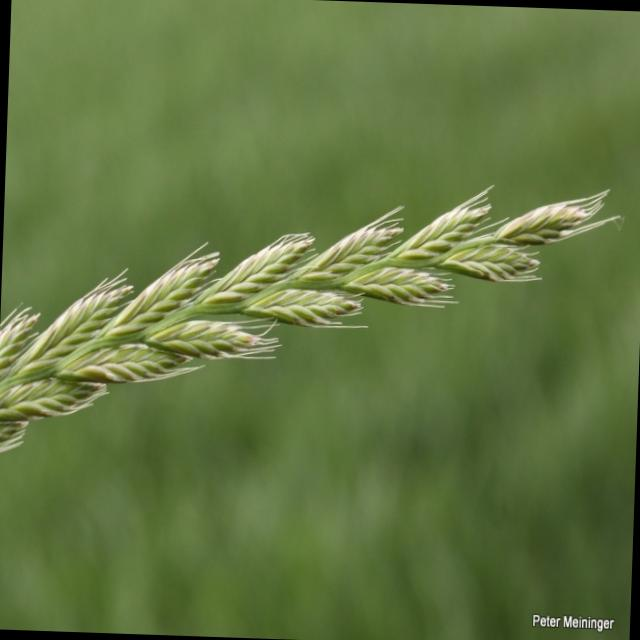Lolium: (0, 161, 626, 480)
